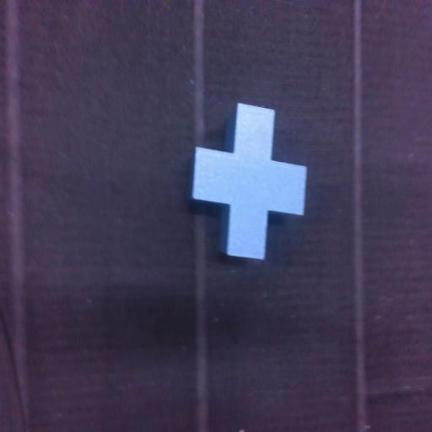cross: (193, 104, 306, 259)
